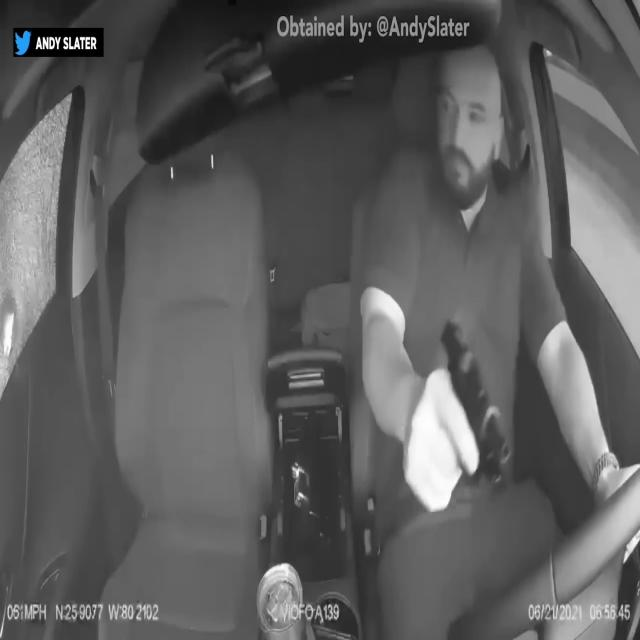senjata_api: (440, 316, 510, 487)
